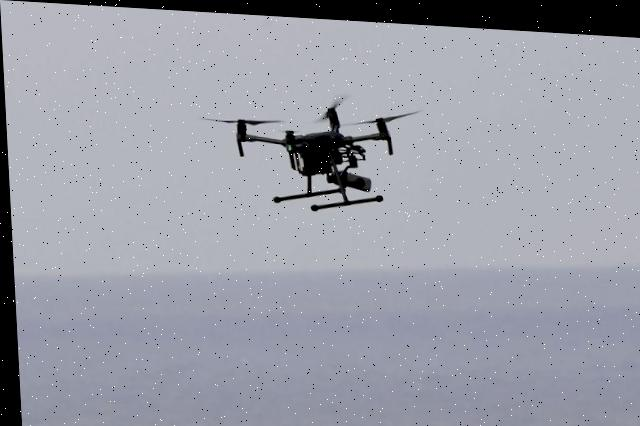drone: (186, 70, 445, 229)
